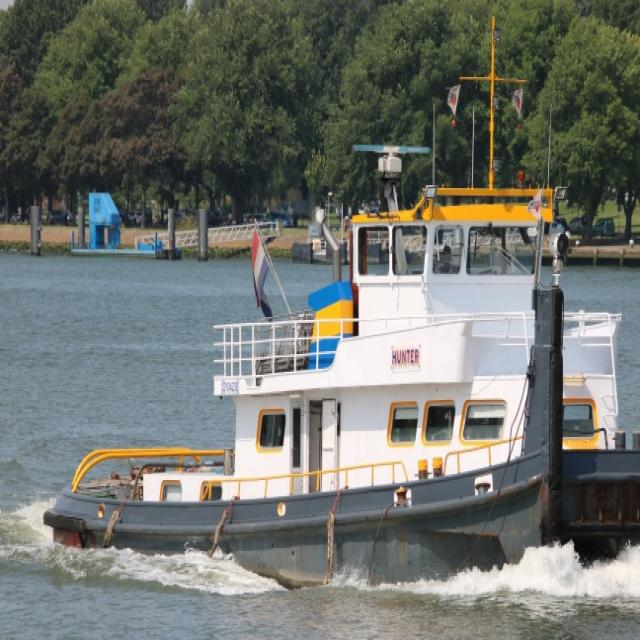tugboat: (37, 11, 640, 602)
